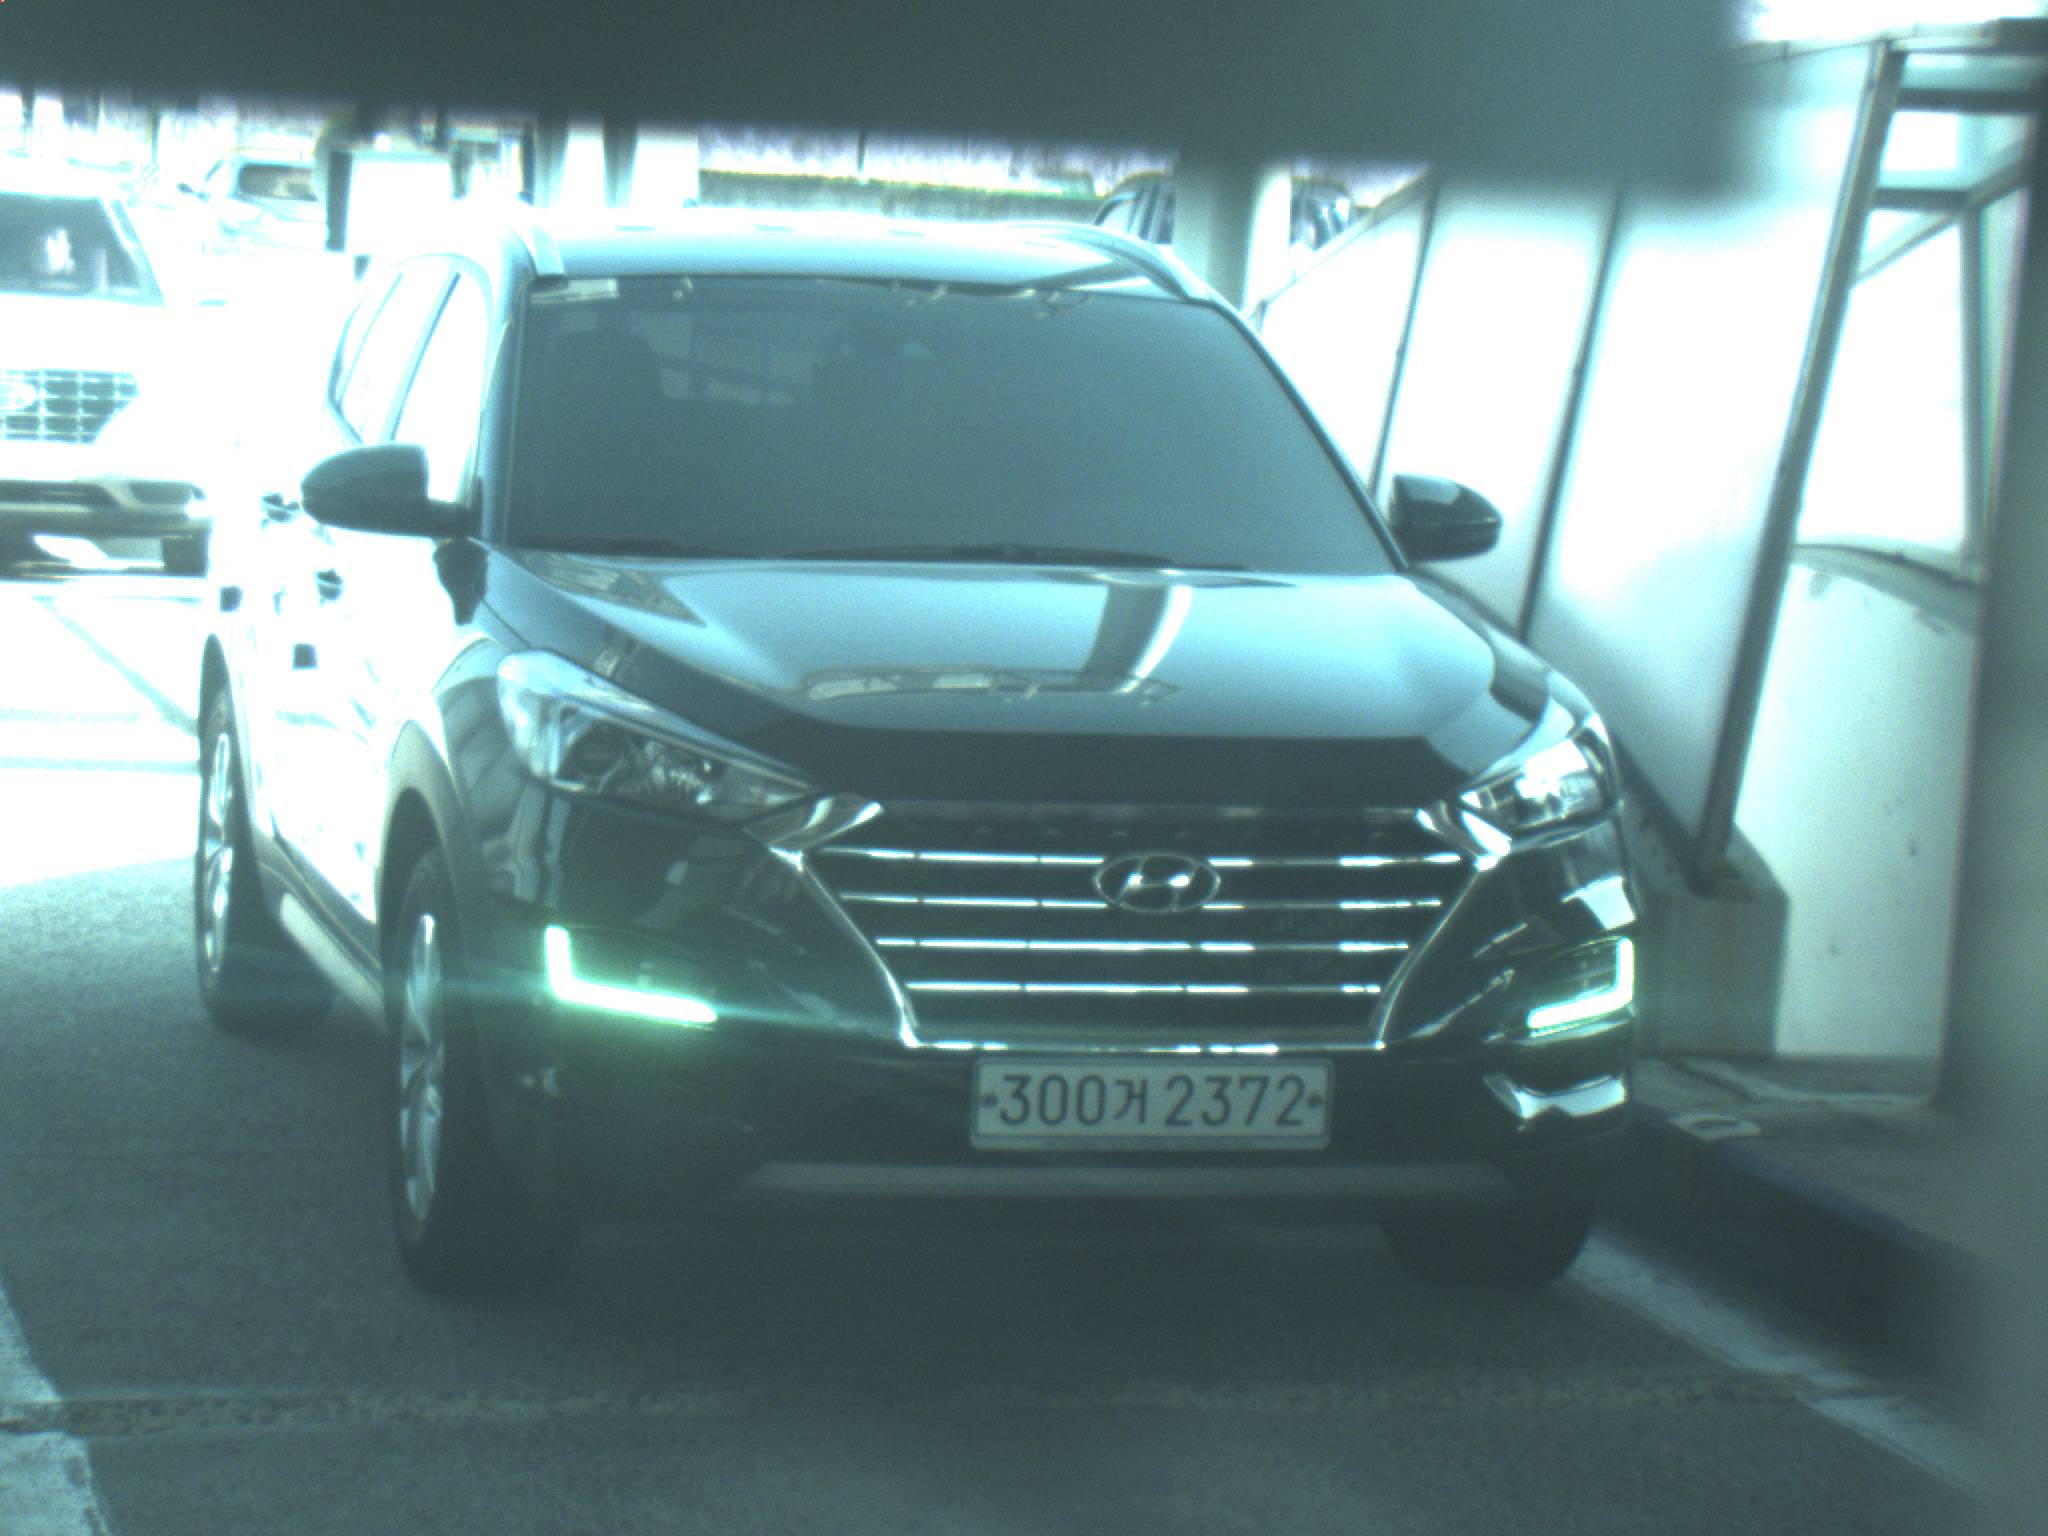car: (187, 189, 1657, 1302), (1, 168, 227, 583)
plate: (961, 1053, 1336, 1149)
